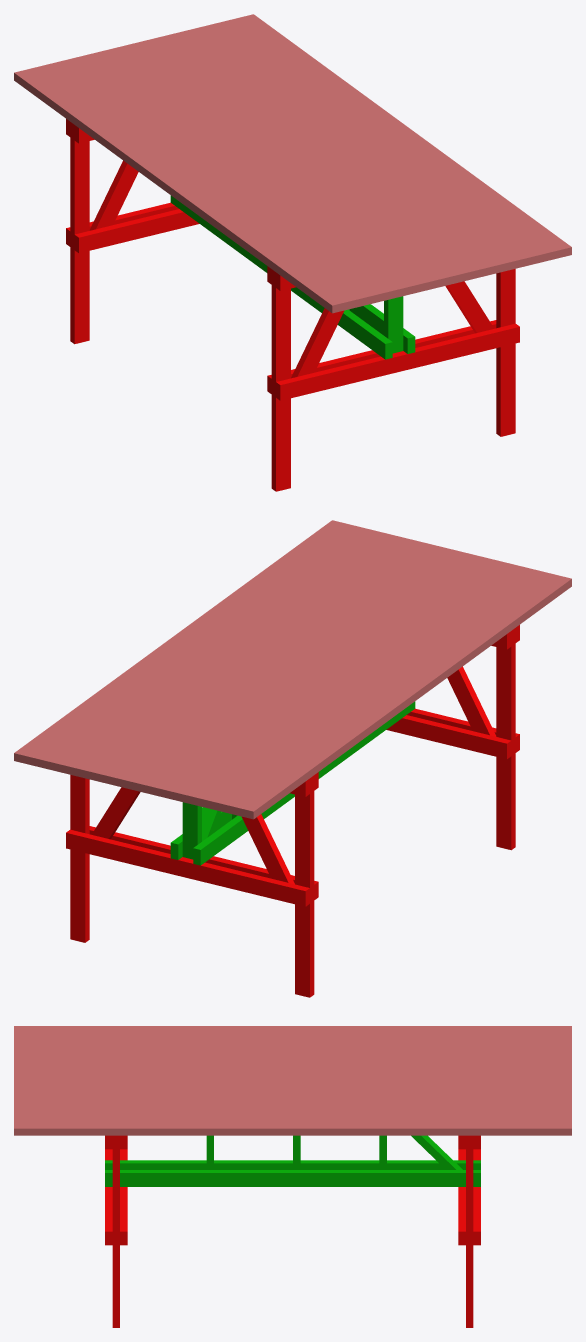
The model's file is result.glb.
3 views of the same model, one above another, from view 1: azimuth 30°, elevation 25°; view 2: azimuth 150°, elevation 25°; view 3: azimuth 270°, elevation 25° (orthographic). The views are drawn at different scales.
Visible parts, largest first — view 1: a17c6bca-c66b-4954-b102-7607ad4b374d__Box, 5384937a-9e05-4223-827e-dd9e284e1345__undefined, f380f62b-069e-4ff2-a039-ed6587d0c64b__undefined, f94281a4-ca4e-4fd5-b465-22be014b89c3__undefined, 03b25e12-fc91-4625-aee0-7e9a7669bde6__undefined, 2727220a-df22-4e7b-b2a2-418687f3bc38__undefined, 98196167-f621-4c9a-9ad6-c36412cd981e__undefined, 604013d8-9a51-4058-9f09-dabe39a6d4d5__undefined, a035a24c-edf6-4d12-8f4a-c296ace52871__undefined, 29a28e30-bb92-4869-845b-db124cfae225__undefined, 0a929bf5-094f-42db-bda9-320d518baf78__undefined, 99740363-c34e-4c08-bbce-117dd9bfc076__undefined (+17 smaller); view 2: a17c6bca-c66b-4954-b102-7607ad4b374d__Box, 5384937a-9e05-4223-827e-dd9e284e1345__undefined, f380f62b-069e-4ff2-a039-ed6587d0c64b__undefined, f94281a4-ca4e-4fd5-b465-22be014b89c3__undefined, 03b25e12-fc91-4625-aee0-7e9a7669bde6__undefined, 2727220a-df22-4e7b-b2a2-418687f3bc38__undefined, 98196167-f621-4c9a-9ad6-c36412cd981e__undefined, 604013d8-9a51-4058-9f09-dabe39a6d4d5__undefined, a035a24c-edf6-4d12-8f4a-c296ace52871__undefined, 29a28e30-bb92-4869-845b-db124cfae225__undefined, 0a929bf5-094f-42db-bda9-320d518baf78__undefined, 99740363-c34e-4c08-bbce-117dd9bfc076__undefined (+16 smaller); view 3: 85333fc9-d298-4a1a-91a6-9b09d82cf5f6__undefined, 90715ca9-dcbe-45d3-939a-b9a32e90c58c__strutH, 29a28e30-bb92-4869-845b-db124cfae225__undefined, a97a969b-efdb-4451-a9e5-18ab33804e86__undefined, a17c6bca-c66b-4954-b102-7607ad4b374d__Box, 03b25e12-fc91-4625-aee0-7e9a7669bde6__undefined, 5384937a-9e05-4223-827e-dd9e284e1345__undefined, 2727220a-df22-4e7b-b2a2-418687f3bc38__undefined, f380f62b-069e-4ff2-a039-ed6587d0c64b__undefined, f94281a4-ca4e-4fd5-b465-22be014b89c3__undefined, 98196167-f621-4c9a-9ad6-c36412cd981e__undefined, 604013d8-9a51-4058-9f09-dabe39a6d4d5__undefined (+13 smaller).
Boxes of the visible parts, x1=… form: a17c6bca-c66b-4954-b102-7607ad4b374d__Box: x1=14, y1=69, x2=347, y2=313; 5384937a-9e05-4223-827e-dd9e284e1345__undefined: x1=44, y1=61, x2=377, y2=305; f380f62b-069e-4ff2-a039-ed6587d0c64b__undefined: x1=74, y1=54, x2=407, y2=298; f94281a4-ca4e-4fd5-b465-22be014b89c3__undefined: x1=89, y1=50, x2=422, y2=294; 03b25e12-fc91-4625-aee0-7e9a7669bde6__undefined: x1=29, y1=65, x2=362, y2=309; 2727220a-df22-4e7b-b2a2-418687f3bc38__undefined: x1=59, y1=58, x2=392, y2=302; 98196167-f621-4c9a-9ad6-c36412cd981e__undefined: x1=104, y1=47, x2=437, y2=291; 604013d8-9a51-4058-9f09-dabe39a6d4d5__undefined: x1=119, y1=43, x2=451, y2=287; a035a24c-edf6-4d12-8f4a-c296ace52871__undefined: x1=134, y1=40, x2=466, y2=283; 29a28e30-bb92-4869-845b-db124cfae225__undefined: x1=149, y1=36, x2=481, y2=280; 0a929bf5-094f-42db-bda9-320d518baf78__undefined: x1=164, y1=32, x2=496, y2=276; 99740363-c34e-4c08-bbce-117dd9bfc076__undefined: x1=194, y1=25, x2=526, y2=269; a17c6bca-c66b-4954-b102-7607ad4b374d__Box: x1=238, y1=575, x2=571, y2=819; 5384937a-9e05-4223-827e-dd9e284e1345__undefined: x1=208, y1=567, x2=541, y2=811; f380f62b-069e-4ff2-a039-ed6587d0c64b__undefined: x1=178, y1=560, x2=511, y2=804; f94281a4-ca4e-4fd5-b465-22be014b89c3__undefined: x1=163, y1=556, x2=496, y2=800; 03b25e12-fc91-4625-aee0-7e9a7669bde6__undefined: x1=223, y1=571, x2=556, y2=815; 2727220a-df22-4e7b-b2a2-418687f3bc38__undefined: x1=193, y1=564, x2=526, y2=808; 98196167-f621-4c9a-9ad6-c36412cd981e__undefined: x1=148, y1=553, x2=481, y2=797; 604013d8-9a51-4058-9f09-dabe39a6d4d5__undefined: x1=134, y1=549, x2=466, y2=793; a035a24c-edf6-4d12-8f4a-c296ace52871__undefined: x1=119, y1=546, x2=451, y2=789; 29a28e30-bb92-4869-845b-db124cfae225__undefined: x1=104, y1=542, x2=436, y2=786; 0a929bf5-094f-42db-bda9-320d518baf78__undefined: x1=89, y1=538, x2=421, y2=782; 99740363-c34e-4c08-bbce-117dd9bfc076__undefined: x1=59, y1=531, x2=391, y2=775; 85333fc9-d298-4a1a-91a6-9b09d82cf5f6__undefined: x1=14, y1=1122, x2=571, y2=1135; 90715ca9-dcbe-45d3-939a-b9a32e90c58c__strutH: x1=105, y1=1170, x2=480, y2=1186; 29a28e30-bb92-4869-845b-db124cfae225__undefined: x1=14, y1=1083, x2=571, y2=1090; a97a969b-efdb-4451-a9e5-18ab33804e86__undefined: x1=14, y1=1115, x2=571, y2=1122; a17c6bca-c66b-4954-b102-7607ad4b374d__Box: x1=14, y1=1026, x2=571, y2=1032; 03b25e12-fc91-4625-aee0-7e9a7669bde6__undefined: x1=14, y1=1032, x2=571, y2=1038; 5384937a-9e05-4223-827e-dd9e284e1345__undefined: x1=14, y1=1039, x2=571, y2=1045; 2727220a-df22-4e7b-b2a2-418687f3bc38__undefined: x1=14, y1=1045, x2=571, y2=1051; f380f62b-069e-4ff2-a039-ed6587d0c64b__undefined: x1=14, y1=1051, x2=571, y2=1057; f94281a4-ca4e-4fd5-b465-22be014b89c3__undefined: x1=14, y1=1058, x2=571, y2=1064; 98196167-f621-4c9a-9ad6-c36412cd981e__undefined: x1=14, y1=1064, x2=571, y2=1070; 604013d8-9a51-4058-9f09-dabe39a6d4d5__undefined: x1=14, y1=1071, x2=571, y2=1077.
Size of the model in its own units: 800 by 725 by 1840.
